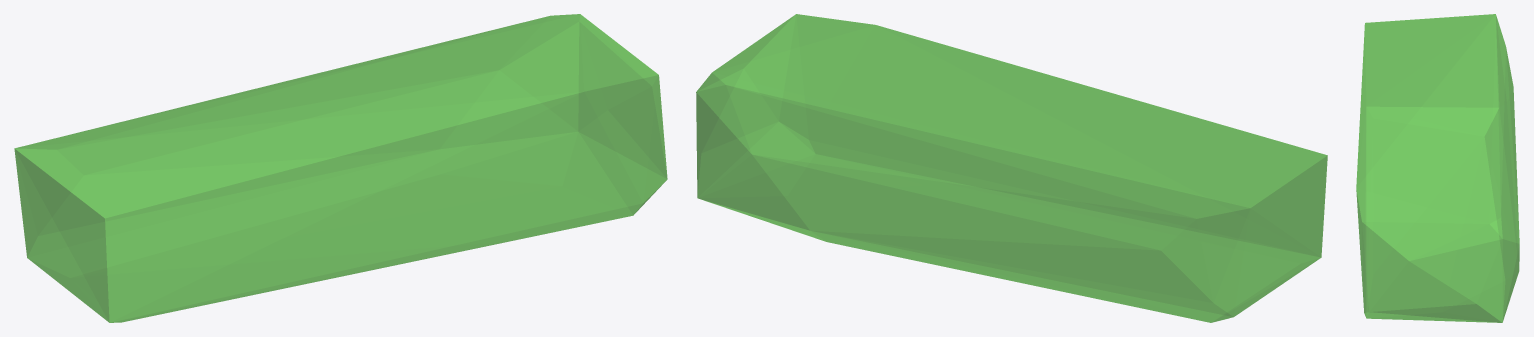
3 views of the same model, side by side, from view 1: azimuth 30°, elevation 25°; view 2: azimuth 150°, elevation 25°; view 3: azimuth 270°, elevation 25° (orthographic). The views are drawn at different scales.
Visible parts, largest first — view 1: Shape_IndexedFaceSet.014_Shape_IndexedFaceSet.12855; view 2: Shape_IndexedFaceSet.014_Shape_IndexedFaceSet.12855; view 3: Shape_IndexedFaceSet.014_Shape_IndexedFaceSet.12855.
Part boxes in pixels (box(x1,y1,x2,y2)): Shape_IndexedFaceSet.014_Shape_IndexedFaceSet.12855: box(14, 14, 667, 322); Shape_IndexedFaceSet.014_Shape_IndexedFaceSet.12855: box(696, 14, 1327, 322); Shape_IndexedFaceSet.014_Shape_IndexedFaceSet.12855: box(1356, 14, 1519, 322).
Size of the model in its own units: 0.482 by 0.1144 by 0.1529.
